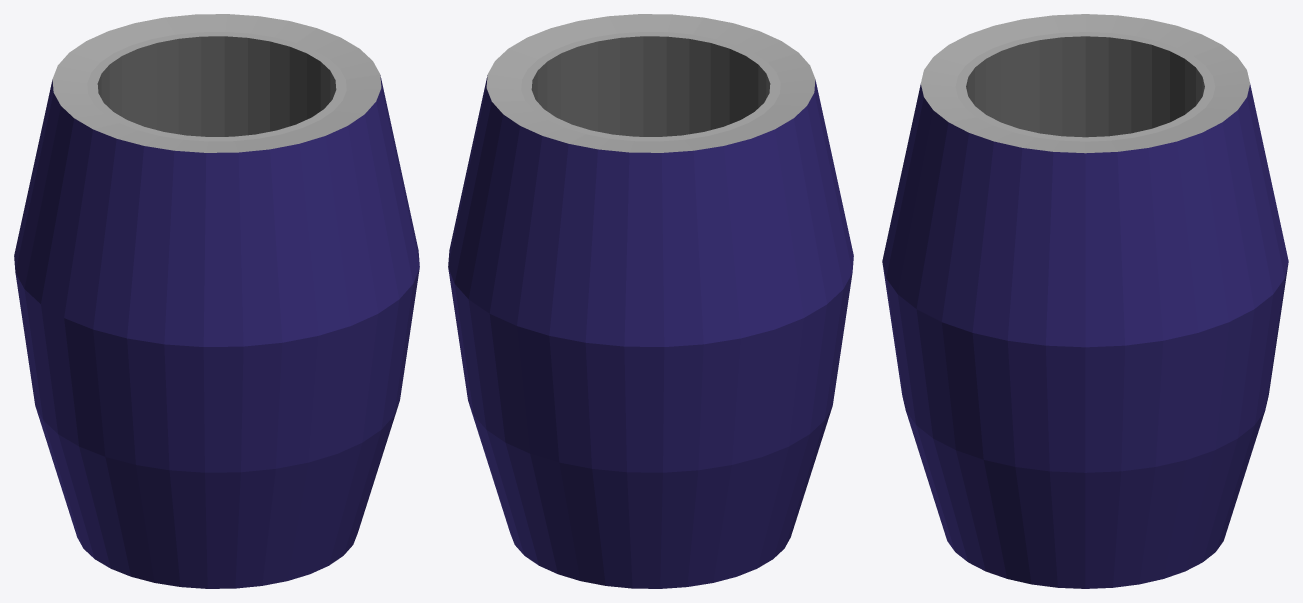
The model's file is Barril.fbx.
3 views of the same model, side by side, from view 1: azimuth 30°, elevation 25°; view 2: azimuth 150°, elevation 25°; view 3: azimuth 270°, elevation 25° (orthographic).
Visible parts, largest first — view 1: Cylinder; view 2: Cylinder; view 3: Cylinder.
Part boxes in pixels (x1,y1,x2,y2): Cylinder: (14,14,419,588); Cylinder: (448,14,853,588); Cylinder: (882,14,1288,588).
Size of the model in its own units: 103 by 125 by 103.
